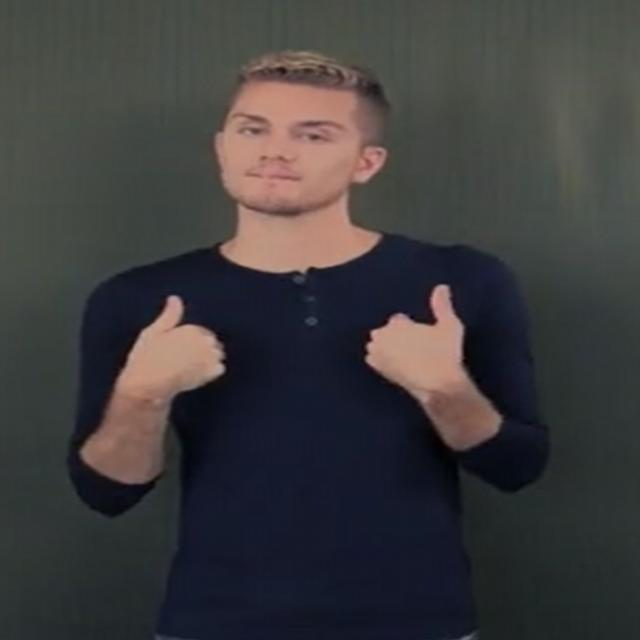have: (126, 285, 464, 393)
